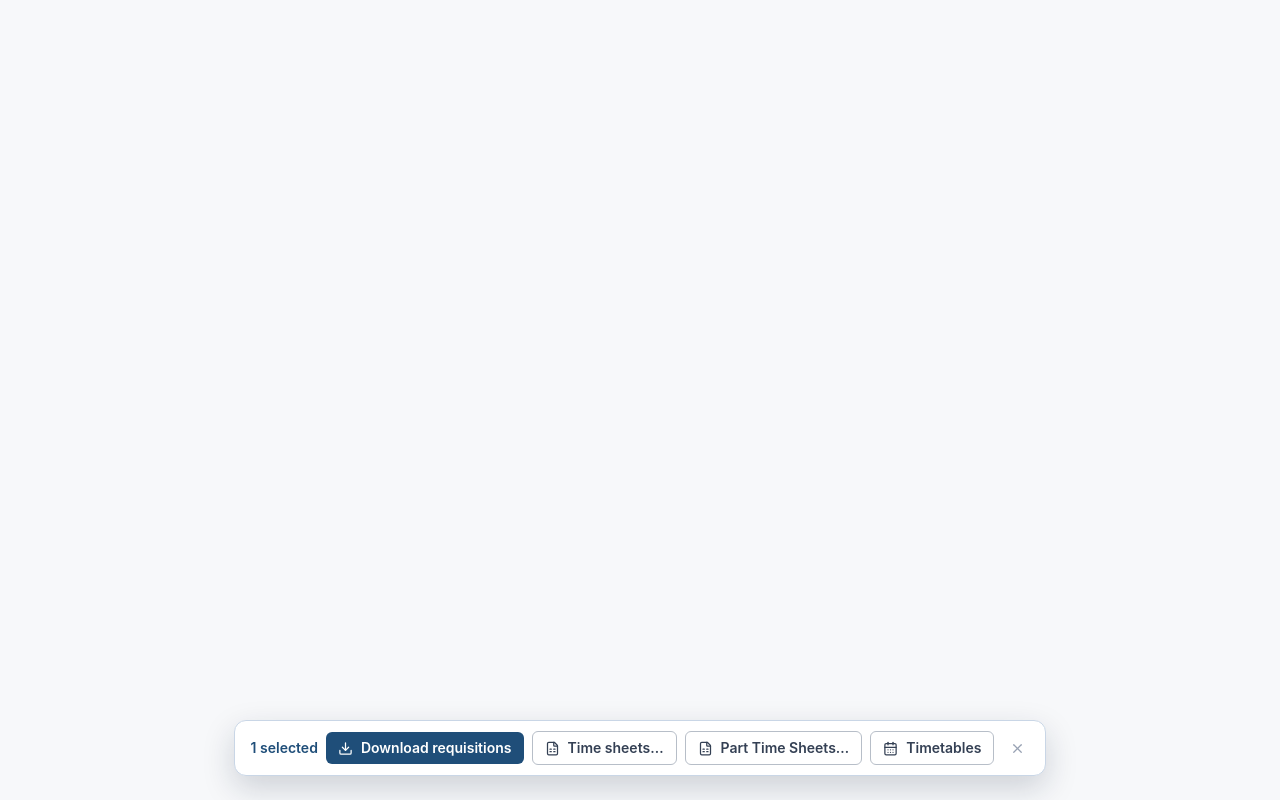
Test case: Part Time Sheets for the ticked teachers › says so when none of them has a period approved yet
Click the button "Part Time Sheets…" at (773, 748), box [684,731,862,765]
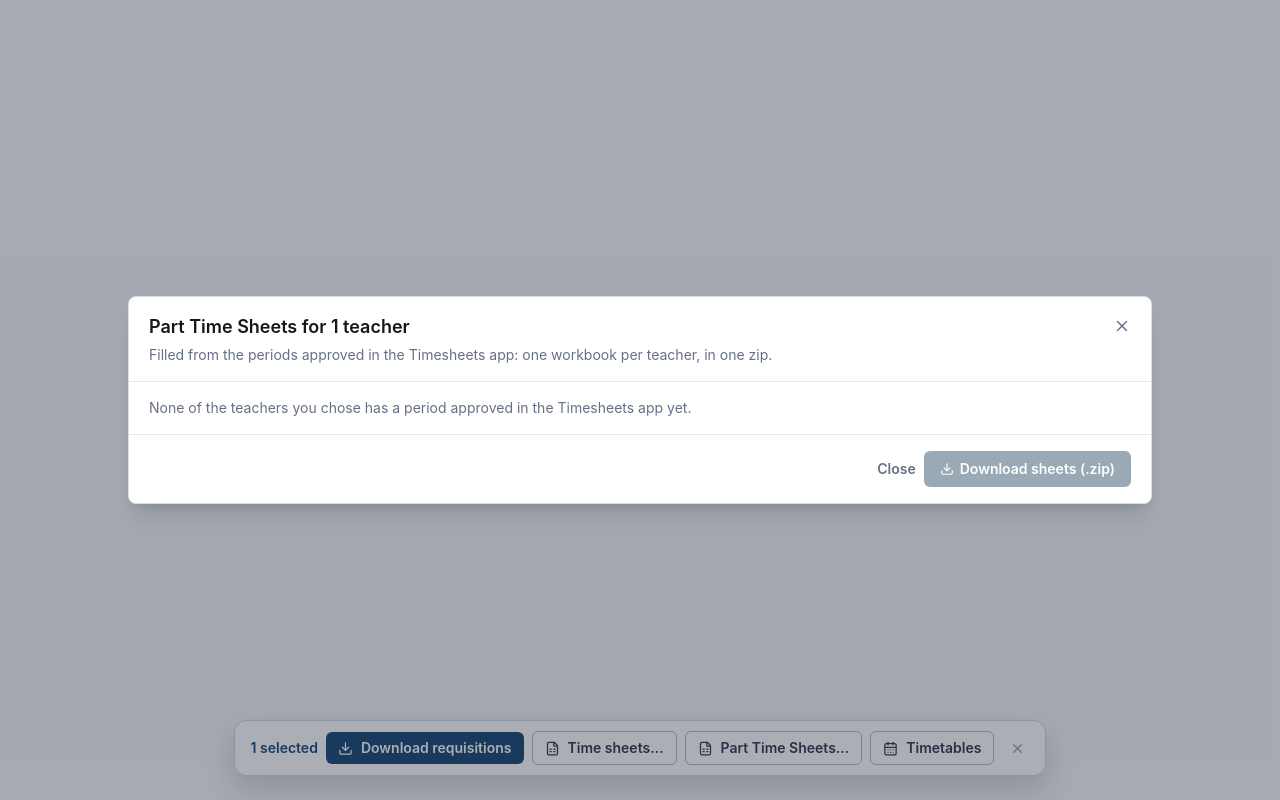
expect the text "has a period approved in the Timesheets app yet" is shown: met, box [149,399,691,416]
